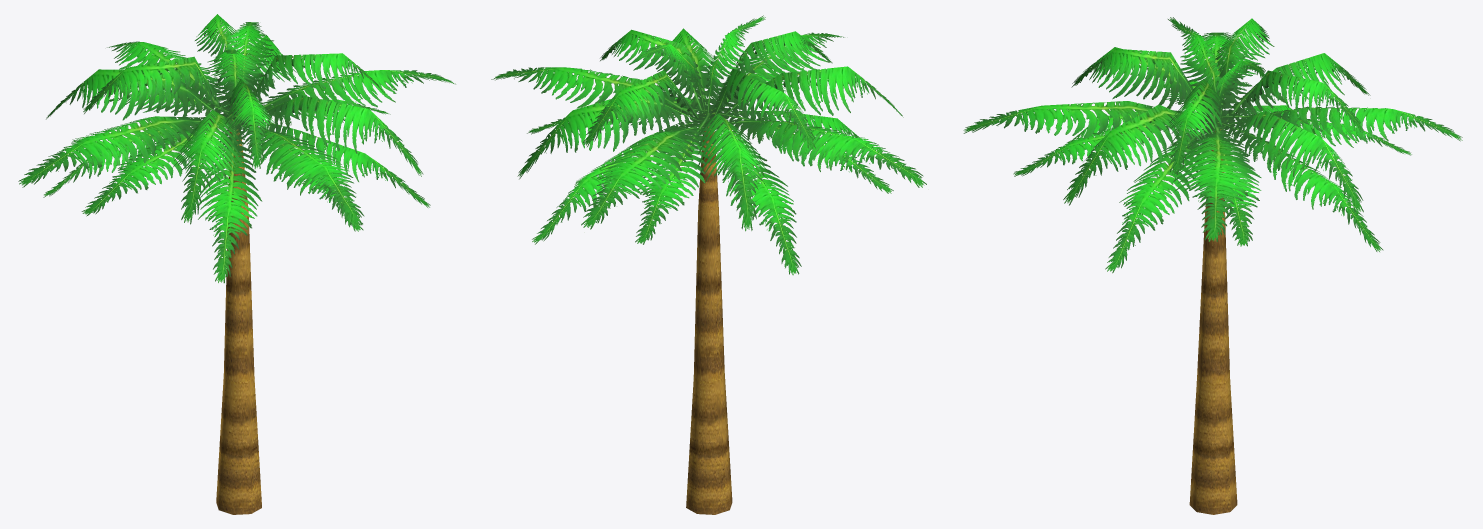
Rendered from palm-03.gltf.
3 renders of one model, left to right at view 1: azimuth 30°, elevation 25°; view 2: azimuth 150°, elevation 25°; view 3: azimuth 270°, elevation 25°, orthographic.
Parts seen in each view (by area): view 1: palm03; view 2: palm03; view 3: palm03.
Part boxes in pixels (x1,y1,x2,y2): palm03: [18, 14, 455, 514]; palm03: [491, 15, 926, 514]; palm03: [963, 17, 1462, 514].
Bounding box in the file's own units: 79.16 × 82.01 × 80.31.
Materials: 2 (2 with a texture image).
